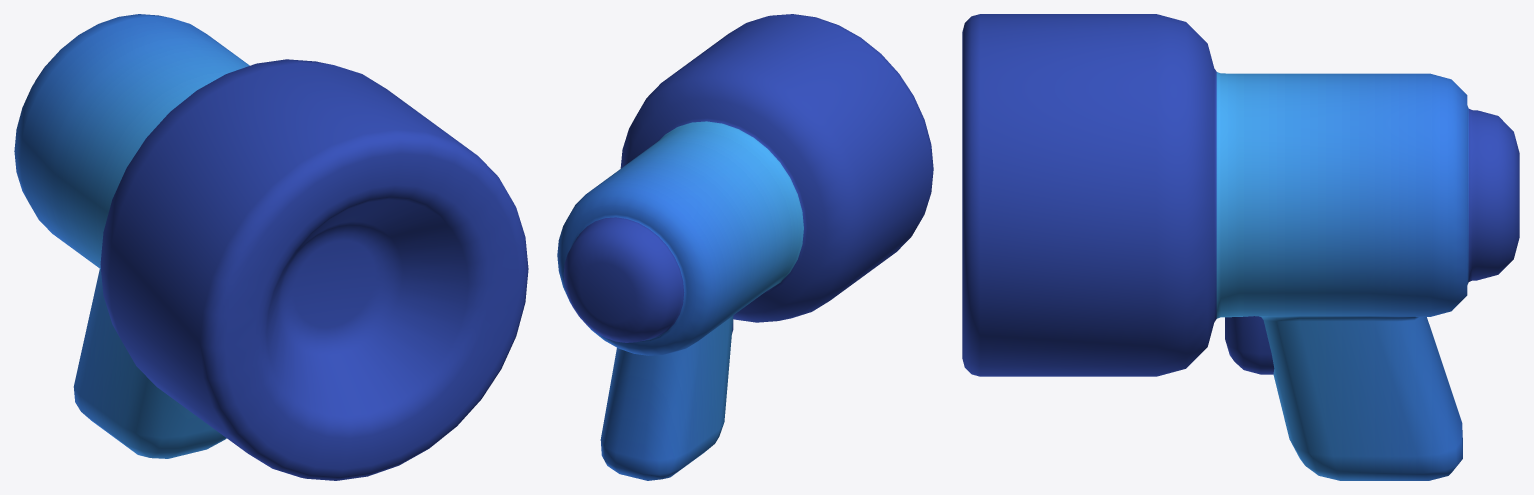
File: gun_model.glb
3 views of the same model, side by side, from view 1: azimuth 30°, elevation 25°; view 2: azimuth 150°, elevation 25°; view 3: azimuth 270°, elevation 25° (orthographic). The views are drawn at different scales.
Visible parts, largest first — view 1: BlueGun; view 2: BlueGun; view 3: BlueGun.
Part boxes in pixels (<box>): BlueGun: <box>14,14,528,480</box>; BlueGun: <box>557,14,933,480</box>; BlueGun: <box>962,14,1519,480</box>.
Size of the model in its own units: 0.614 by 0.816 by 0.942.
1 material, 1 textured.
